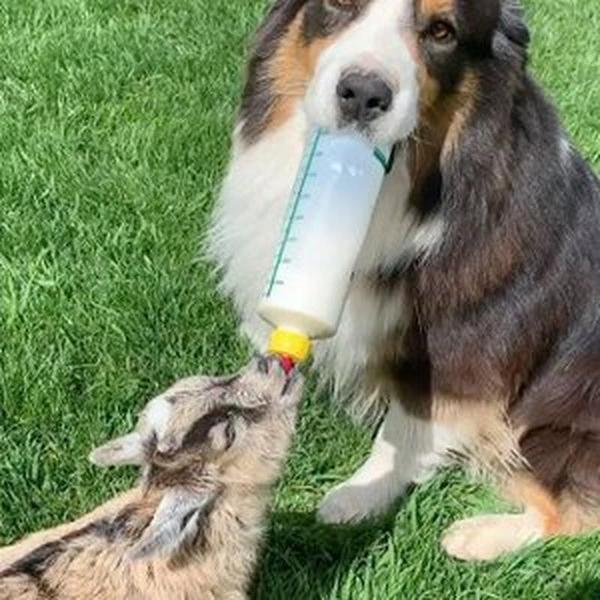allqu: (218, 1, 600, 545)
